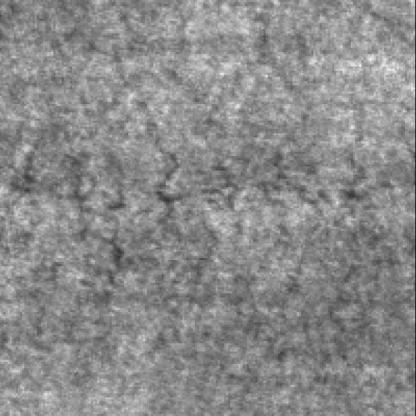crazing: (119, 23, 337, 318), (25, 135, 131, 350)
